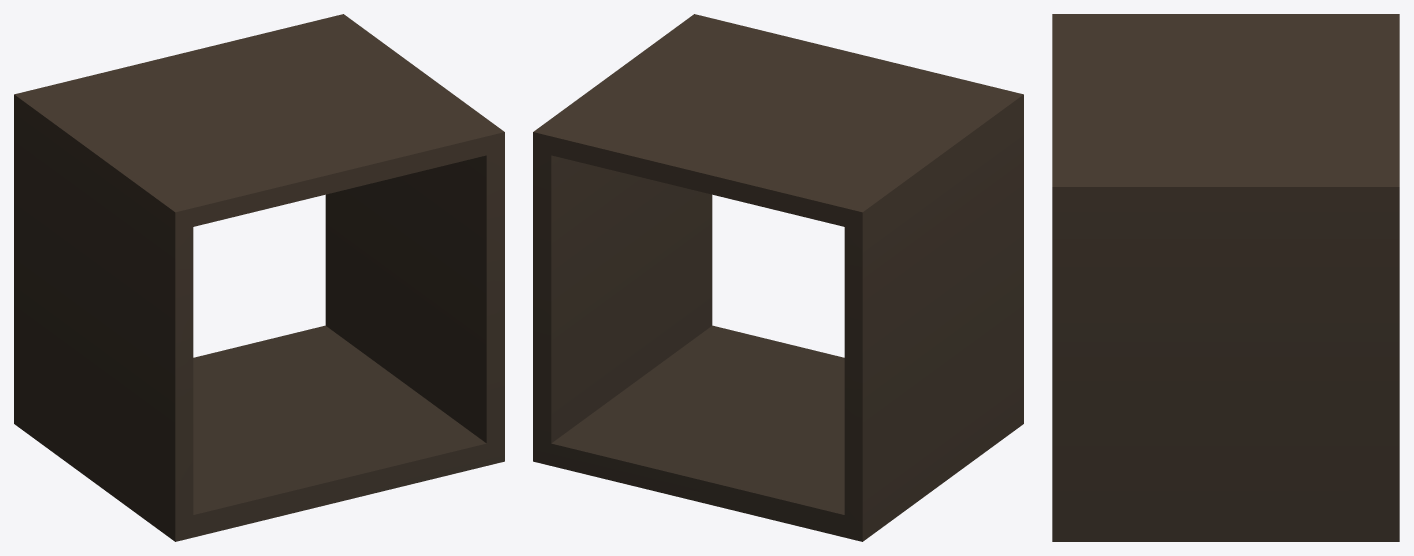
Rendered from Shelving_Hollow_Single_Brown.fbx.
The picture shows the model from 3 angles, left to right: view 1: azimuth 30°, elevation 25°; view 2: azimuth 150°, elevation 25°; view 3: azimuth 270°, elevation 25°; orthographic projection. The views are drawn at different scales.
Parts seen in each view (by area): view 1: Shelving_Hollow_Single_Brown; view 2: Shelving_Hollow_Single_Brown; view 3: Shelving_Hollow_Single_Brown.
Part boxes in pixels (x1,y1,x2,y2): Shelving_Hollow_Single_Brown: (14,14,504,541); Shelving_Hollow_Single_Brown: (533,14,1023,541); Shelving_Hollow_Single_Brown: (1052,14,1399,541).
Size of the model in its own units: 41.8 by 39.95 by 35.42.
